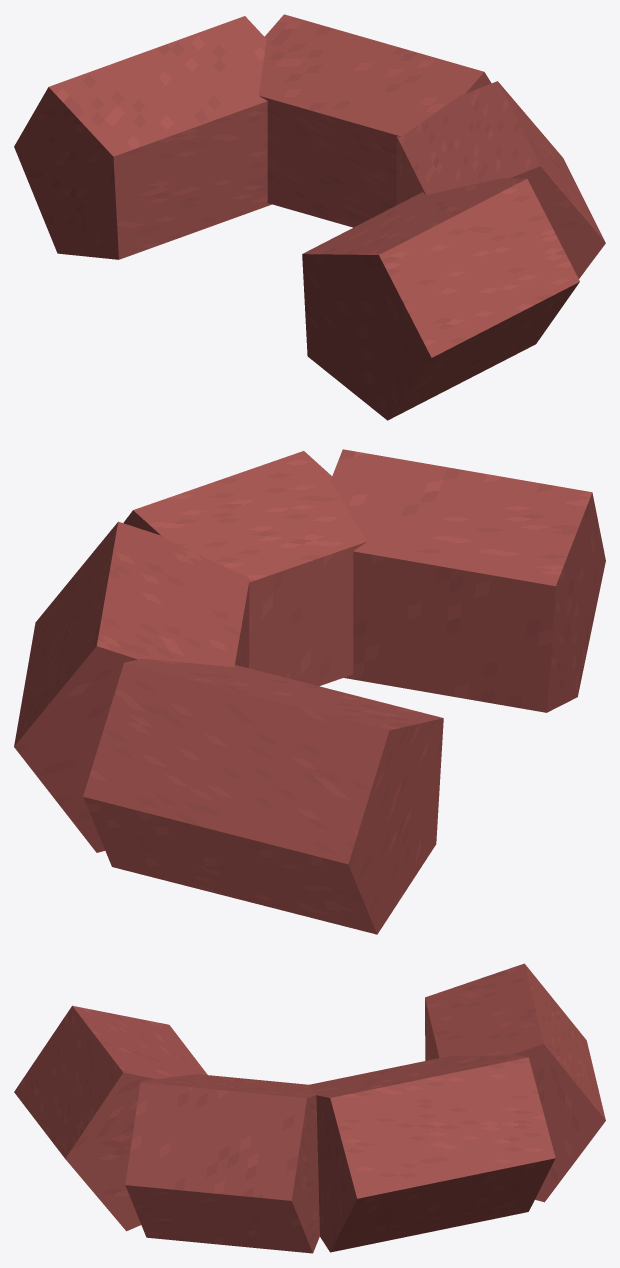
Rendered from mutant_kidney.glb.
3 views of the same model, one above another, from view 1: azimuth 30°, elevation 25°; view 2: azimuth 150°, elevation 25°; view 3: azimuth 270°, elevation 25° (orthographic). The views are drawn at different scales.
Parts seen in each view (by area): view 1: block_curved kidney 3, block_curved kidney 0, block_curved kidney 1, block_curved kidney 2; view 2: block_curved kidney 0, block_curved kidney 3, block_curved kidney 1, block_curved kidney 2; view 3: block_curved kidney 1, block_curved kidney 2, block_curved kidney 3, block_curved kidney 0.
Part boxes in pixels (x1,y1,x2,y2): block_curved kidney 3: [302, 178, 579, 420]; block_curved kidney 0: [14, 16, 271, 259]; block_curved kidney 1: [258, 14, 491, 227]; block_curved kidney 2: [396, 81, 605, 278]; block_curved kidney 0: [83, 658, 443, 934]; block_curved kidney 3: [330, 449, 605, 712]; block_curved kidney 1: [14, 521, 249, 852]; block_curved kidney 2: [123, 451, 367, 686]; block_curved kidney 1: [308, 1054, 555, 1252]; block_curved kidney 2: [125, 1074, 319, 1253]; block_curved kidney 3: [14, 1005, 207, 1231]; block_curved kidney 0: [425, 963, 605, 1202].
Size of the model in its own units: 0.0459 by 0.0214 by 0.0667.
1 material, 1 textured.
